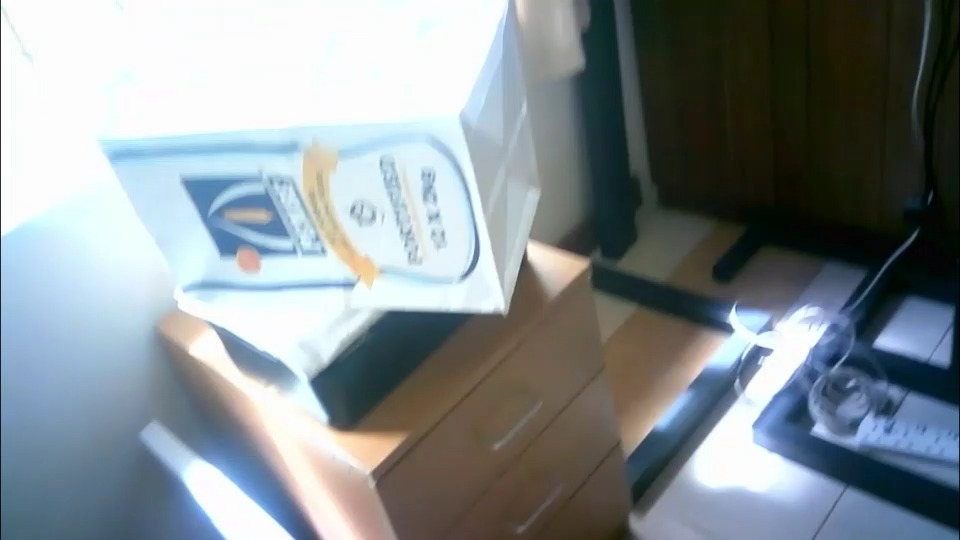wheat_flour_blue_label: (98, 0, 542, 313)
